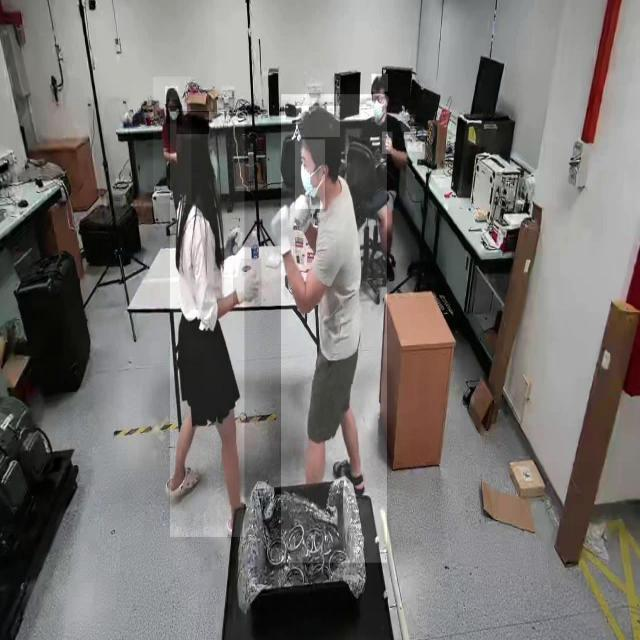gloves: (274, 204, 300, 264), (233, 258, 262, 306)
